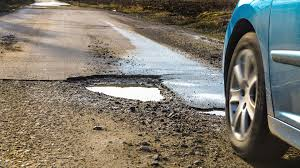pothole: (1, 73, 225, 168), (176, 32, 221, 66), (81, 37, 120, 69), (29, 1, 74, 9)
